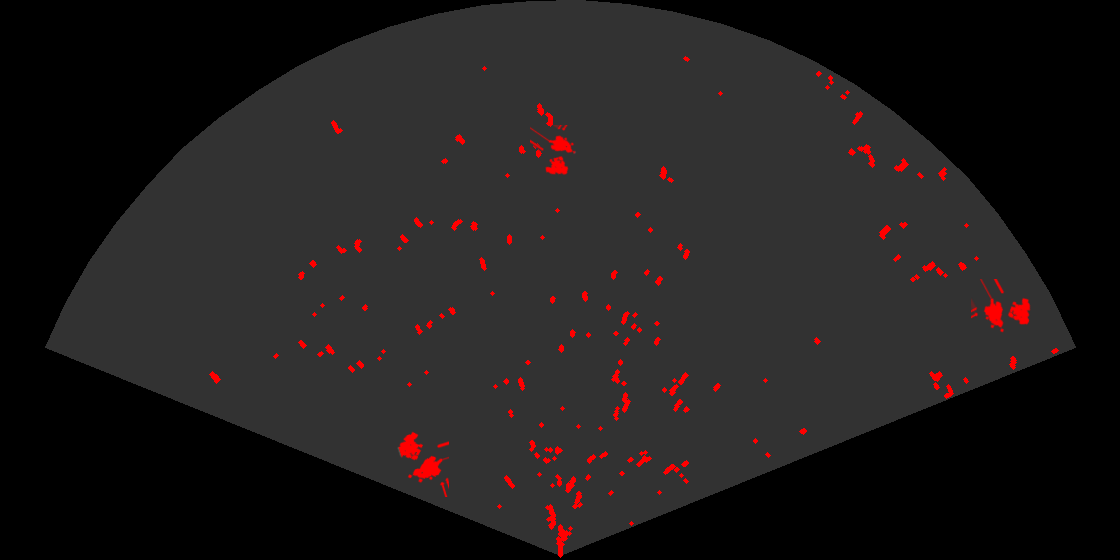cage: (397, 430, 449, 497), (971, 279, 1032, 334), (530, 125, 577, 177)
